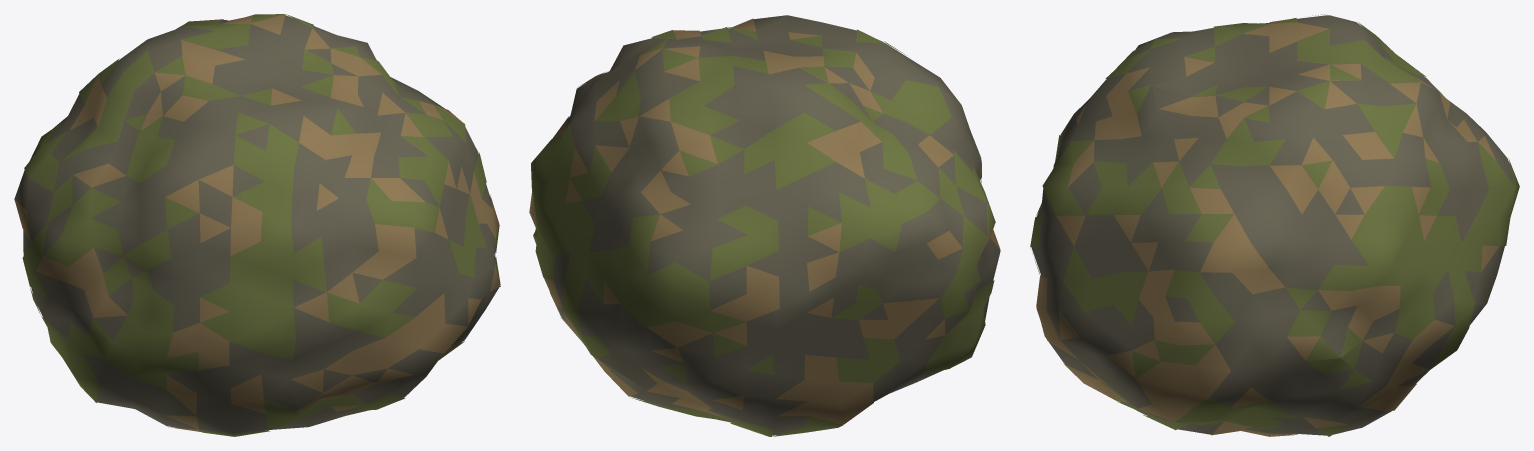
Rendered from ore_nickel.glb.
3 views of the same model, side by side, from view 1: azimuth 30°, elevation 25°; view 2: azimuth 150°, elevation 25°; view 3: azimuth 270°, elevation 25° (orthographic). The views are drawn at different scales.
Parts seen in each view (by area): view 1: nickel_matrix, nickel_garnierite, nickel_limonite; view 2: nickel_matrix, nickel_garnierite, nickel_limonite; view 3: nickel_matrix, nickel_garnierite, nickel_limonite.
Part boxes in pixels (box(x1,y1,x2,y2)): nickel_matrix: box(15, 15, 498, 433); nickel_garnierite: box(22, 14, 500, 436); nickel_limonite: box(14, 14, 500, 432); nickel_matrix: box(535, 15, 1000, 435); nickel_garnierite: box(531, 27, 995, 436); nickel_limonite: box(529, 18, 1000, 429); nickel_matrix: box(1031, 15, 1514, 435); nickel_garnierite: box(1030, 14, 1519, 436); nickel_limonite: box(1035, 19, 1498, 436).
Size of the model in its own units: 1.1 by 0.8925 by 1.08.
